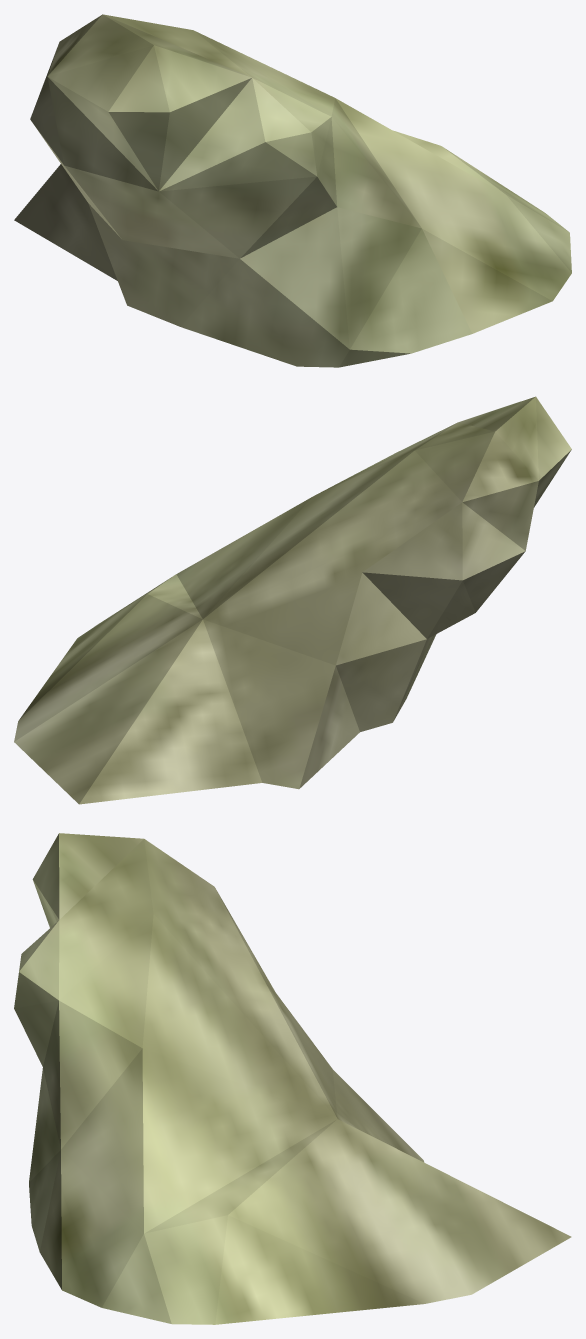
3 views of the same model, one above another, from view 1: azimuth 30°, elevation 25°; view 2: azimuth 150°, elevation 25°; view 3: azimuth 270°, elevation 25° (orthographic). The views are drawn at different scales.
Size of the model in its own units: 0.9415 by 0.591 by 1.01.
1 material, 1 textured.
